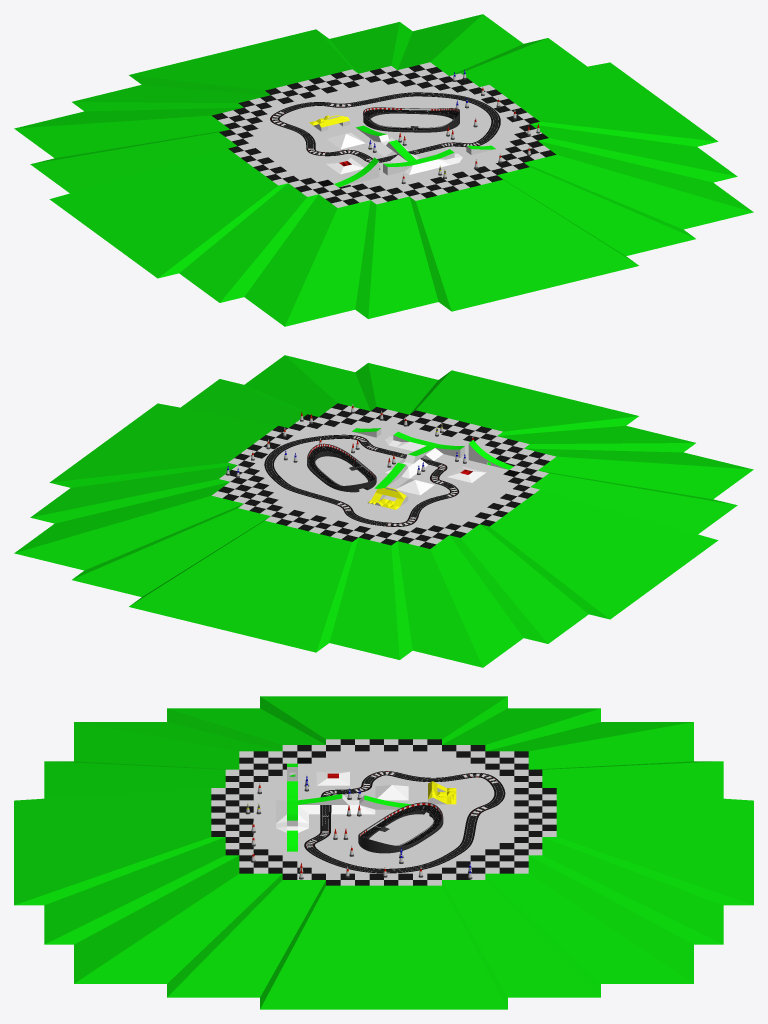
Rendered from CarCity.fbx.
3 renders of one model, top to bottom at view 1: azimuth 30°, elevation 25°; view 2: azimuth 150°, elevation 25°; view 3: azimuth 270°, elevation 25°, orthographic. The views are drawn at different scales.
Parts seen in each view (by area): view 1: CityBase, Ramps, RoadCourseTrack, OvalTrack; view 2: CityBase, Ramps, RoadCourseTrack, OvalTrack; view 3: CityBase, Ramps, RoadCourseTrack, OvalTrack.
Boxes of the visible parts, left/top/right/bottom form: CityBase: left=14, top=14, right=753, bottom=326; Ramps: left=309, top=115, right=495, bottom=187; RoadCourseTrack: left=270, top=92, right=500, bottom=162; OvalTrack: left=363, top=107, right=459, bottom=132; CityBase: left=14, top=355, right=753, bottom=667; Ramps: left=352, top=428, right=513, bottom=509; RoadCourseTrack: left=264, top=434, right=459, bottom=526; OvalTrack: left=307, top=443, right=376, bottom=492; CityBase: left=14, top=696, right=753, bottom=1009; Ramps: left=276, top=763, right=456, bottom=851; RoadCourseTrack: left=304, top=771, right=505, bottom=873; OvalTrack: left=358, top=802, right=443, bottom=853.
Size of the model in its own units: 53.19 by 4.72 by 53.1.
